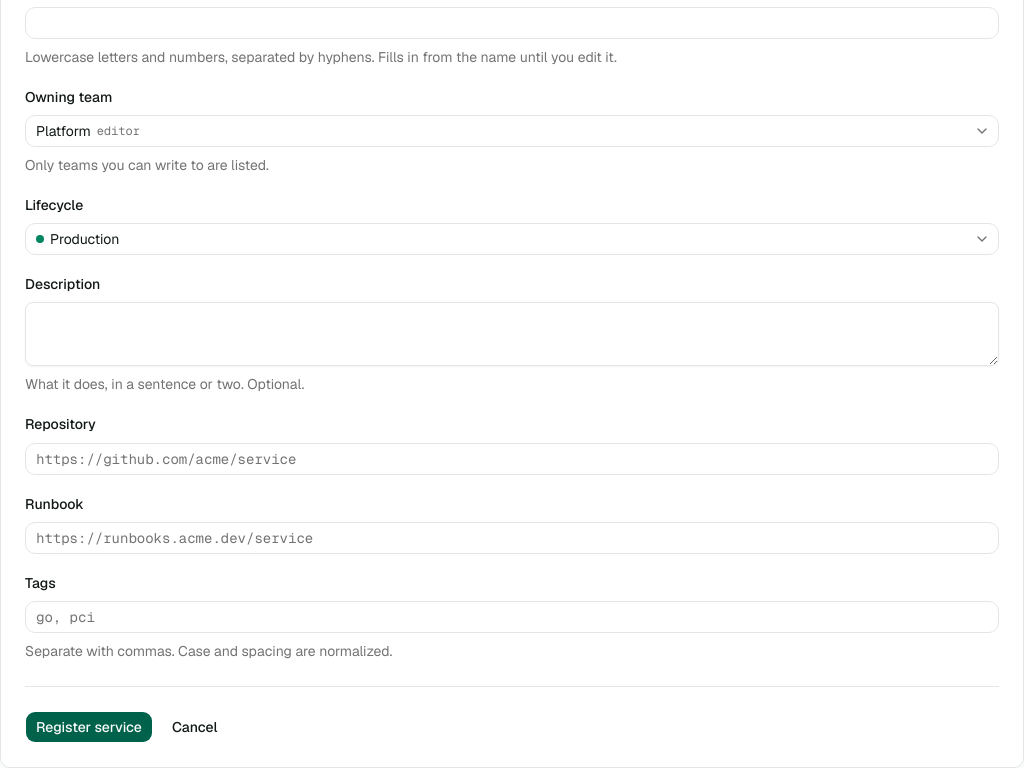
ServiceForm in create mode › refuses to submit an invalid form
(page scrolled)
Click the button "Register service": x=89, y=727 [25,711,153,743]
(page scrolled)
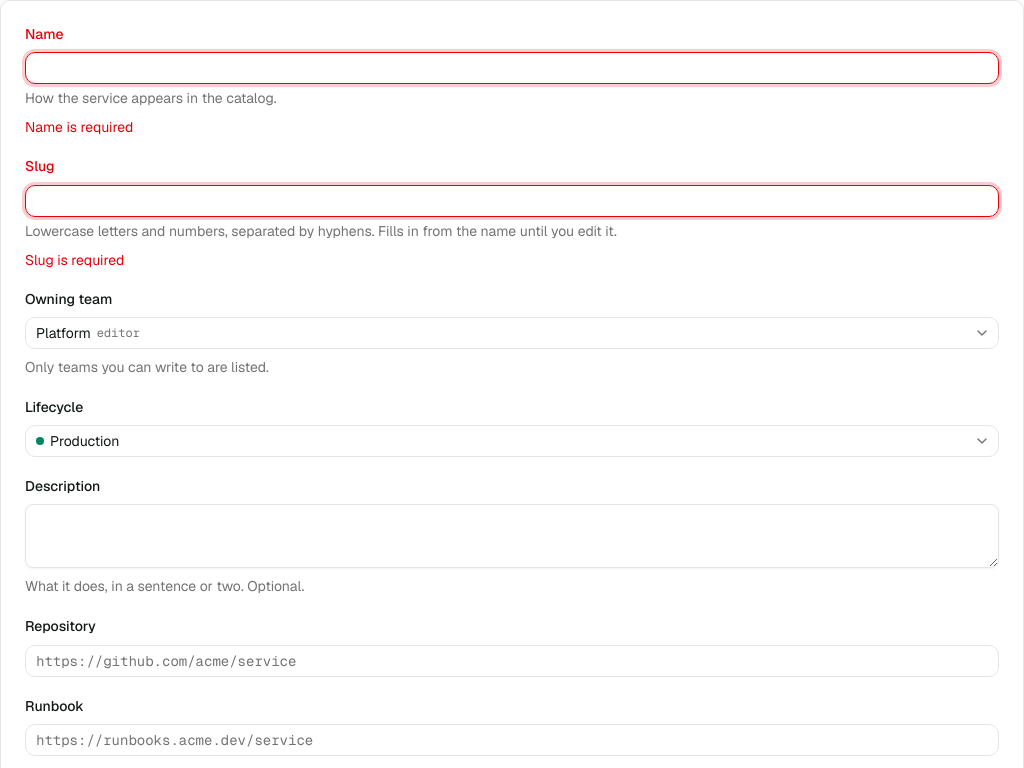
Now the text "Name is required" is shown, box [25,118,133,136]
